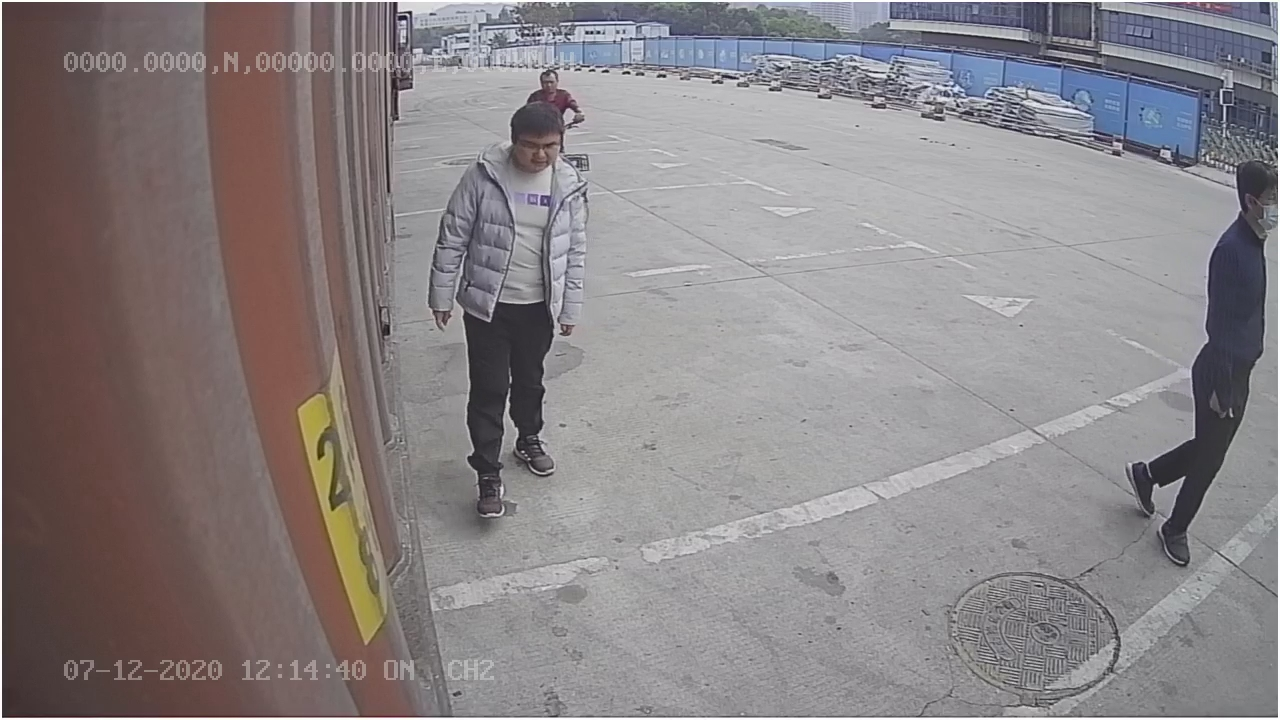person: (430, 104, 589, 515)
